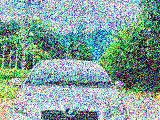car: (10, 58, 130, 120)
